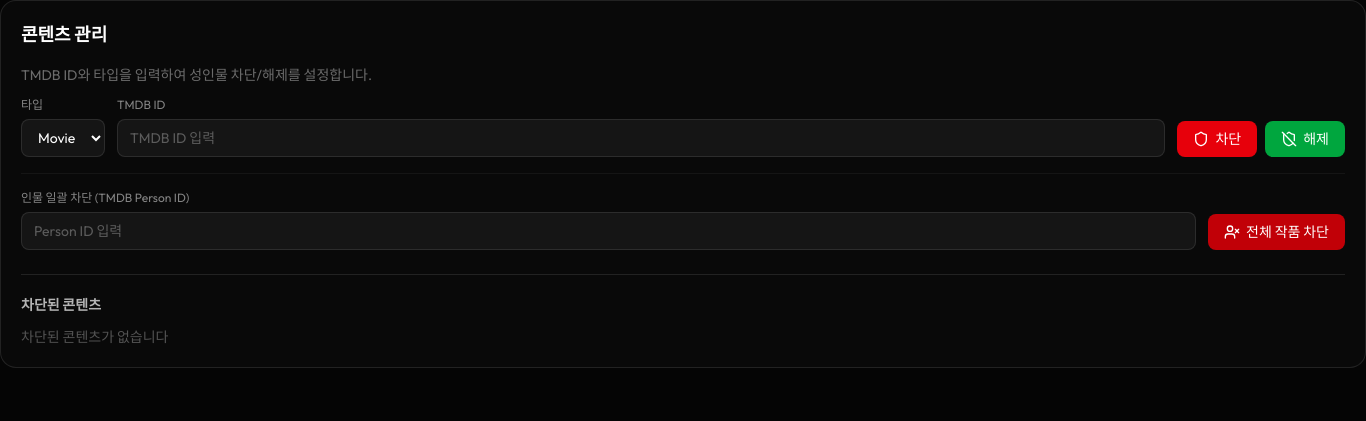
it: ContentManagement › 인물 일괄 차단 › Person ID 없이 클릭 시 에러 메시지를 표시해야 한다
The width and height of the screenshot is (1366, 421).
Click the button "전체 작품 차단": point(1277, 232) [1208,214,1345,250]
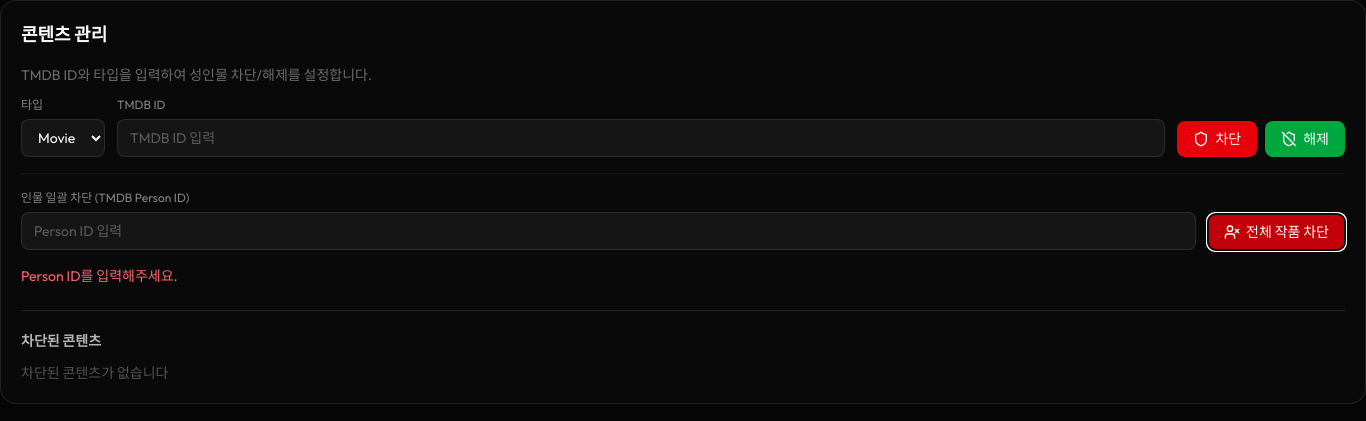
Expected: the text "Person ID를 입력해주세요." is shown, [21,267,178,285]
